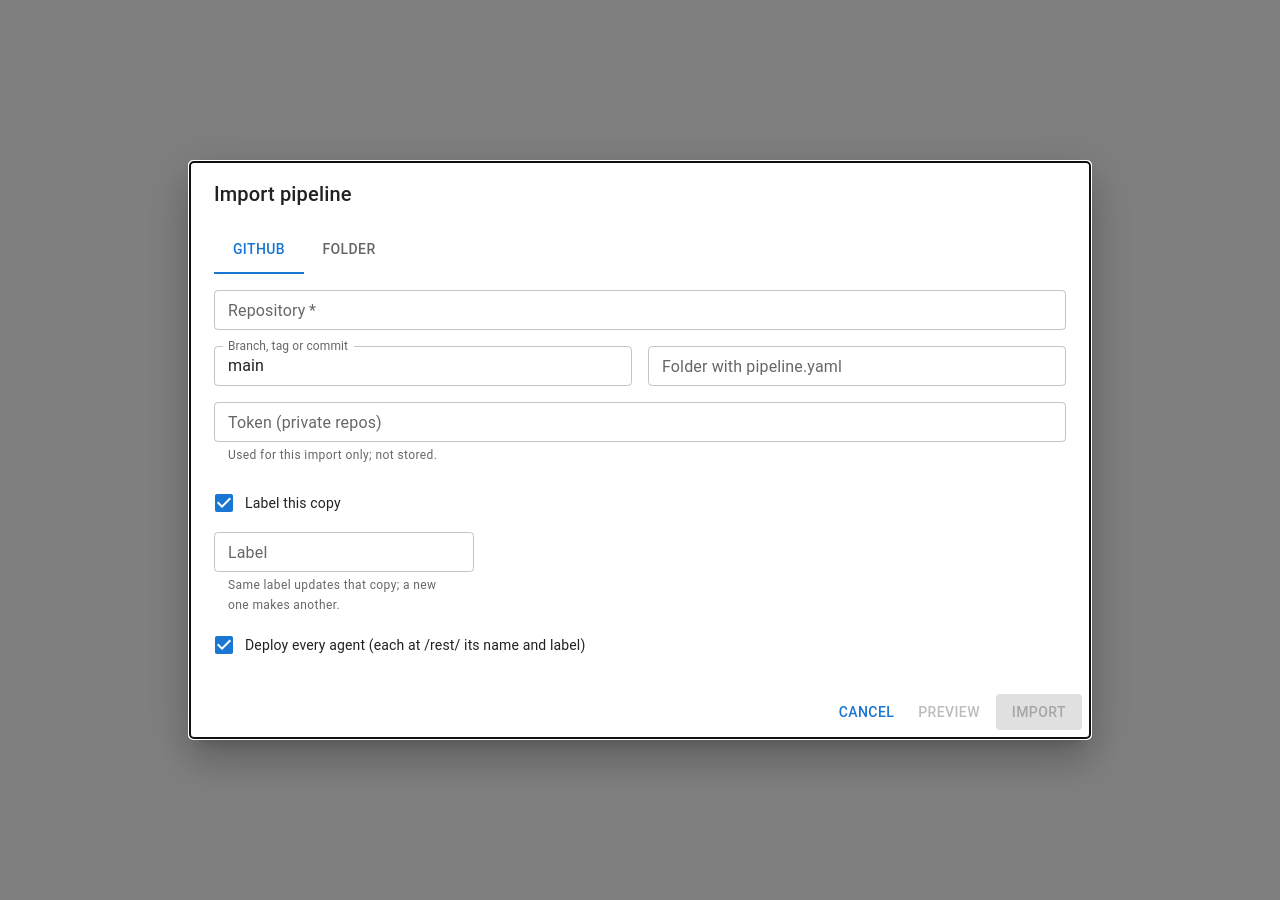
Test: PipelineImportDialog › shows problems and will not import past them
Type "a/b" into the field labelled "Repository *" at [640, 310], box top-left (214, 290), bottom-right (1066, 330)
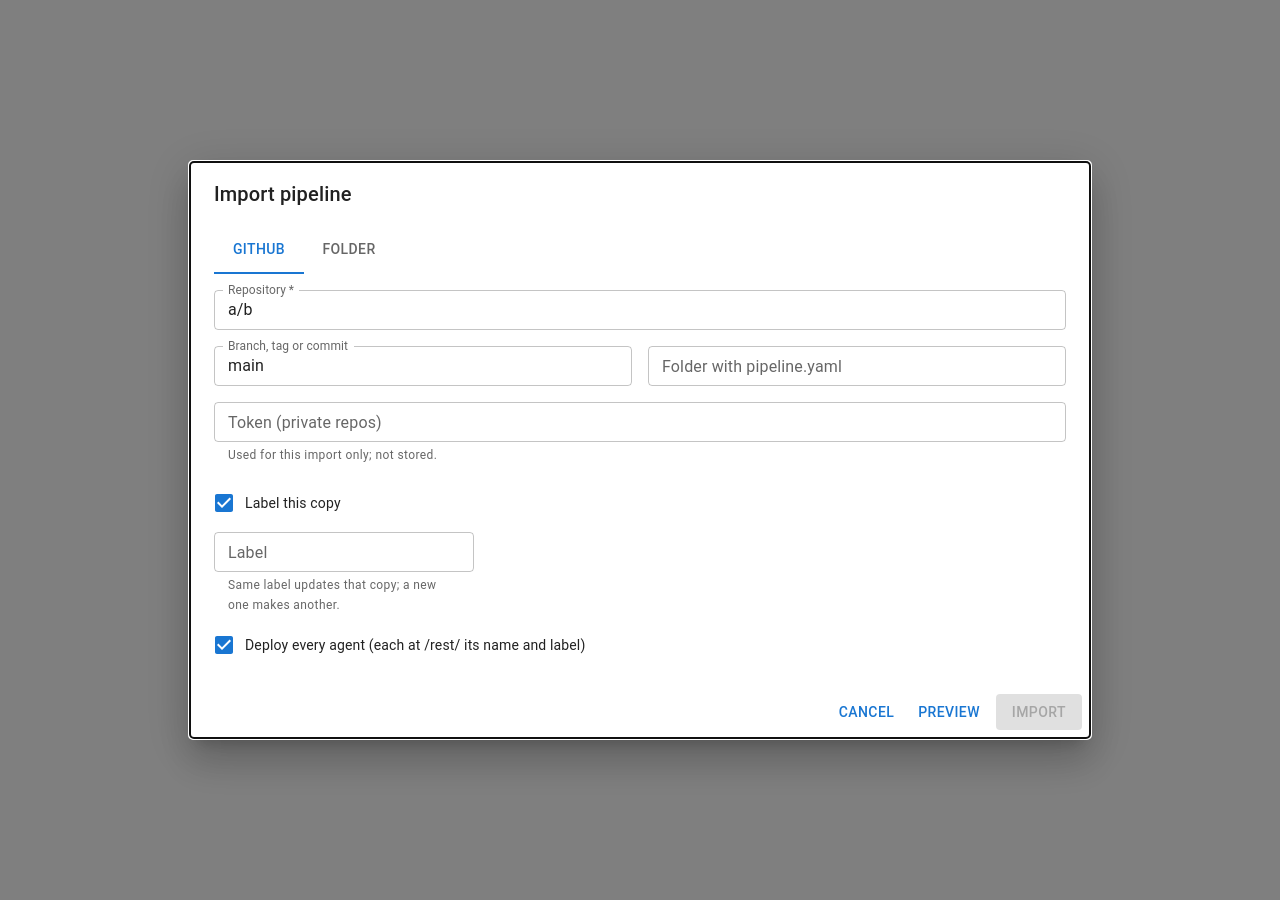
Click the button "Preview" at [949, 712], box top-left (910, 694), bottom-right (988, 730)
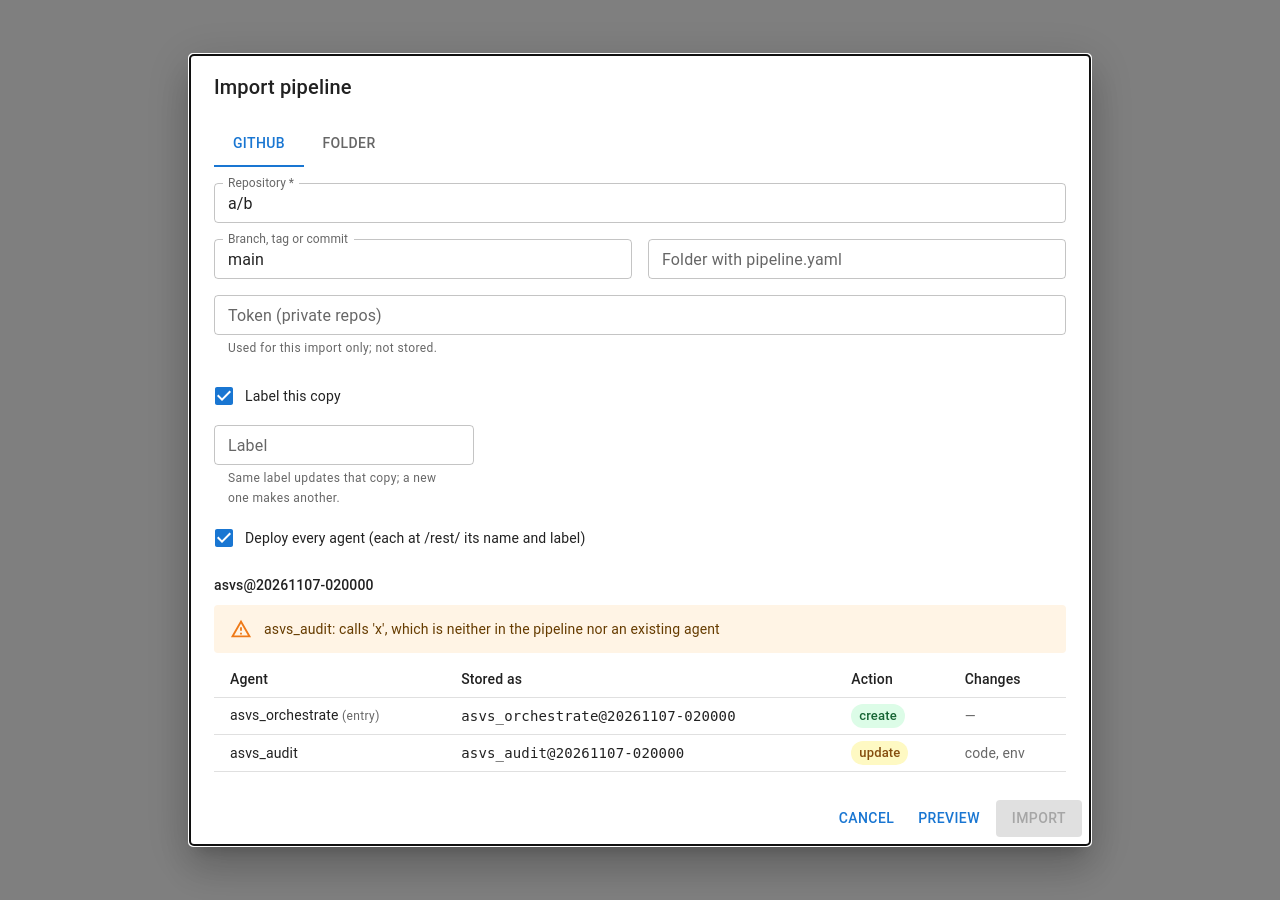
Expected: the button "Import" is disabled, top-left (996, 800), bottom-right (1082, 837)
Expected: the text "calls 'x'" is shown, top-left (264, 621), bottom-right (720, 637)
